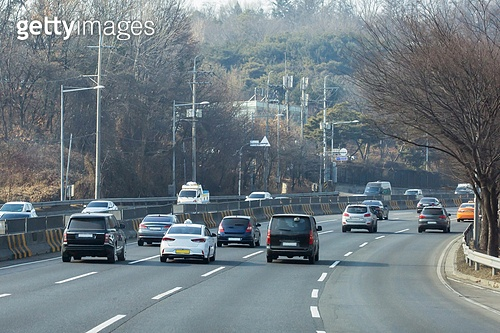Car: (62, 213, 123, 262), (268, 215, 320, 264), (162, 223, 213, 262), (217, 216, 258, 246), (137, 213, 177, 239), (342, 204, 376, 229), (177, 182, 210, 207), (419, 207, 449, 233), (362, 199, 389, 217), (459, 200, 480, 222), (364, 182, 391, 199), (415, 196, 440, 210)
